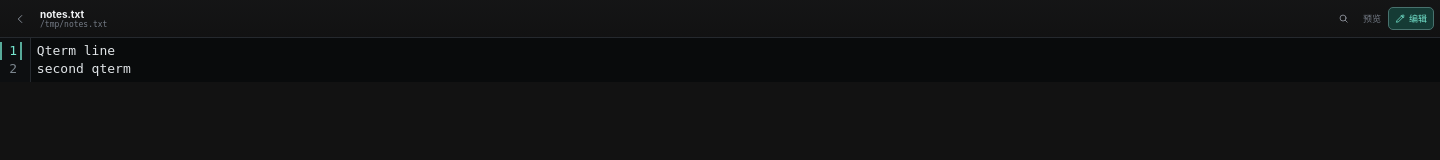
Test: FilePreviewDocument search › opens one controlled search UI from Ctrl+F and cycles matches
Press f in the field with class "cm-content", box [37,43,131,76]
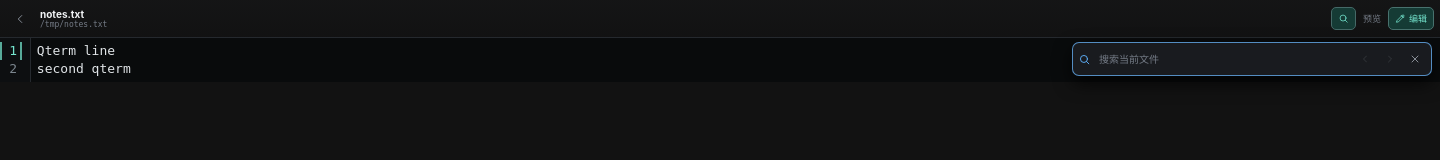
Type "qterm" into the search field named "搜索内容". click: (1202, 59)
box: [1096,47,1309,71]
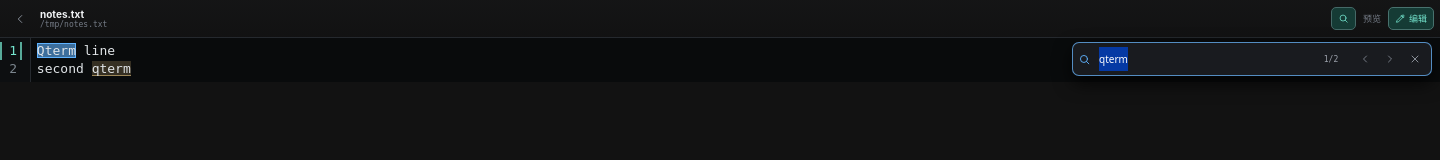
Expected: the text "1/2" is shown, [1324,54,1338,64]
Expected: the number of elements with class "cm-file-search-match" is 2, [37,43,76,58]; [92,61,131,76]
Press Enter in the search field named "搜索内容", box [1096,47,1309,71]
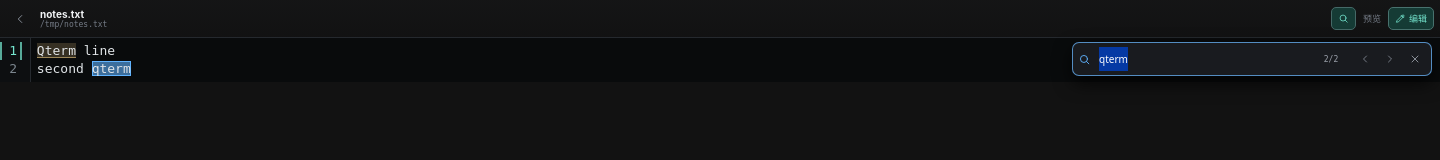
Expected: the text "2/2" is shown, [1324,54,1338,64]
